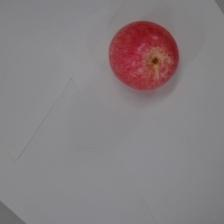red: (107, 19, 180, 92)
